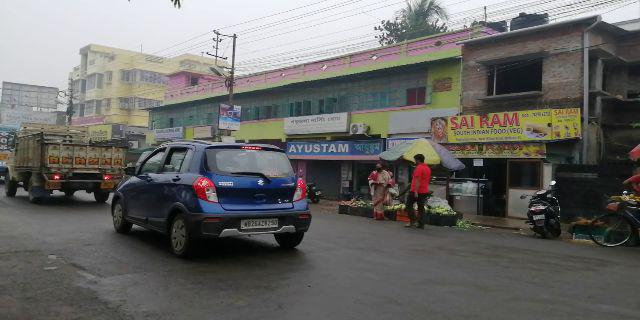Car: (111, 137, 316, 257)
Truck: (12, 121, 108, 200)
